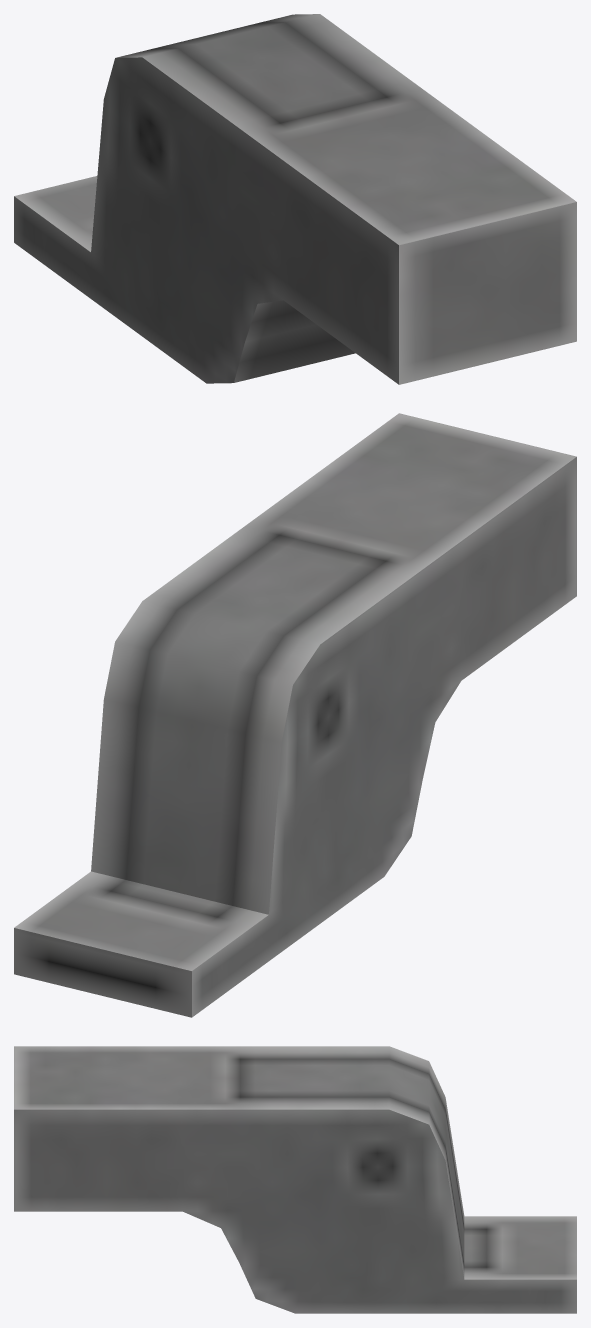
Rendered from tape_base.obj.
3 views of the same model, one above another, from view 1: azimuth 30°, elevation 25°; view 2: azimuth 150°, elevation 25°; view 3: azimuth 270°, elevation 25° (orthographic). The views are drawn at different scales.
Parts seen in each view (by area): view 1: tape_box; view 2: tape_box; view 3: tape_box.
Part boxes in pixels (x1,y1,x2,y2): tape_box: [14, 14, 576, 384]; tape_box: [14, 413, 576, 1017]; tape_box: [14, 1046, 576, 1313].
Bounding box in the file's own units: 0.05 × 0.075 × 0.1875.
1 material, 1 textured.
